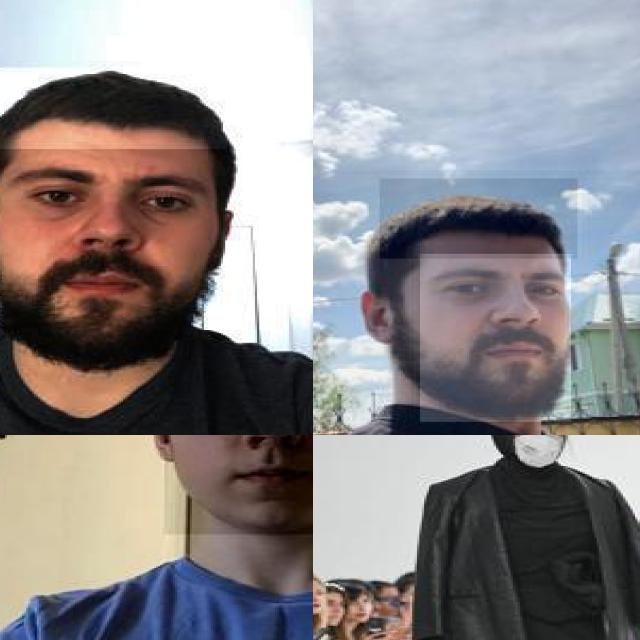No_Ear-Protection: (348, 286, 401, 347)
No_Glasses: (6, 153, 206, 237), (412, 253, 574, 315)
face_mask: (510, 435, 565, 467)
face_nomask: (0, 150, 216, 373), (420, 254, 571, 422), (164, 435, 313, 534), (345, 596, 369, 621), (323, 598, 345, 624), (379, 592, 400, 616), (313, 586, 323, 615)
head_nohelmet: (0, 72, 227, 149), (380, 178, 577, 258), (313, 565, 329, 590)
person: (0, 67, 313, 435), (313, 170, 640, 435), (0, 435, 313, 640), (412, 435, 640, 640)
